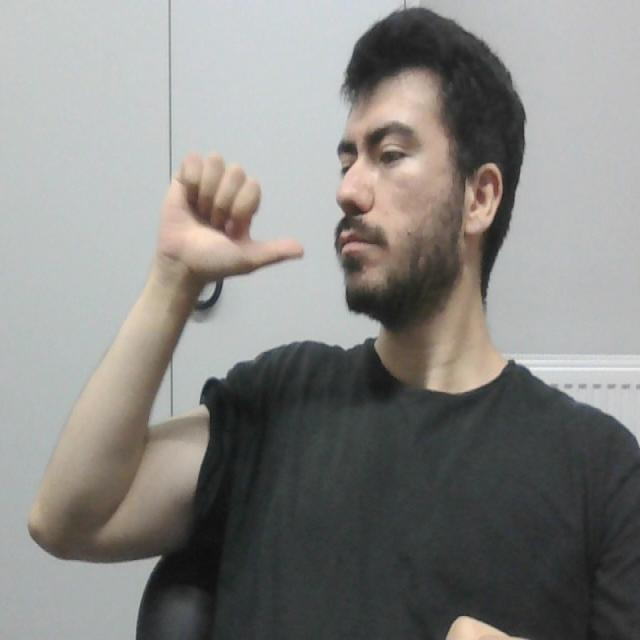icmek: (139, 155, 371, 287)
